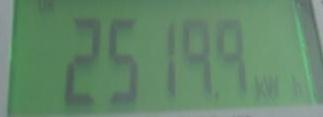.: (251, 73, 308, 104)
0: (214, 89, 221, 100)
2: (160, 19, 180, 98)
3: (63, 17, 100, 108)
6: (105, 19, 144, 107)
:: (213, 19, 249, 91), (183, 19, 215, 96)
